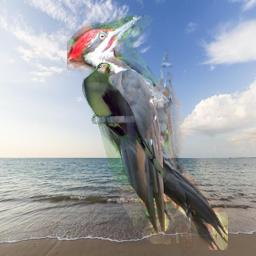Cuckoo: (82, 62, 174, 181)
Woodpecker: (67, 15, 228, 250)
